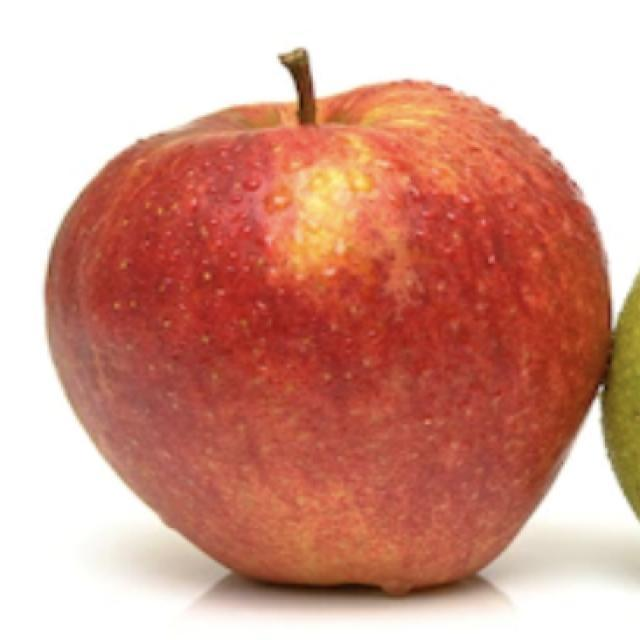Fresh Apple: (42, 82, 603, 608)
